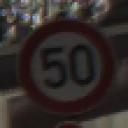speed_limit_50: (14, 14, 118, 119)
